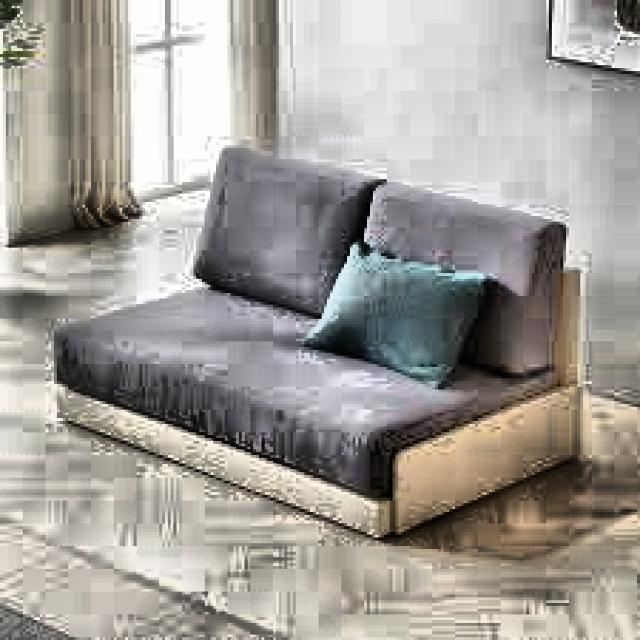sofa: (46, 145, 614, 535)
